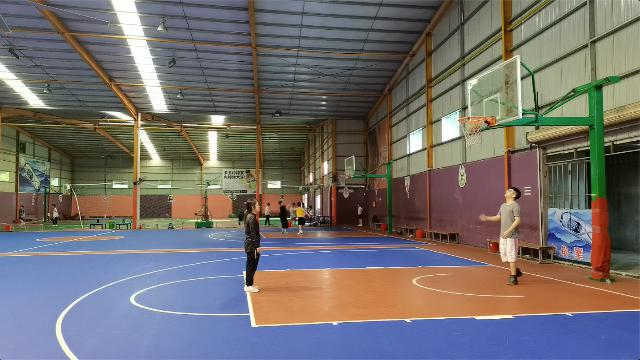ball: (466, 122, 479, 133)
basket: (458, 115, 487, 145)
